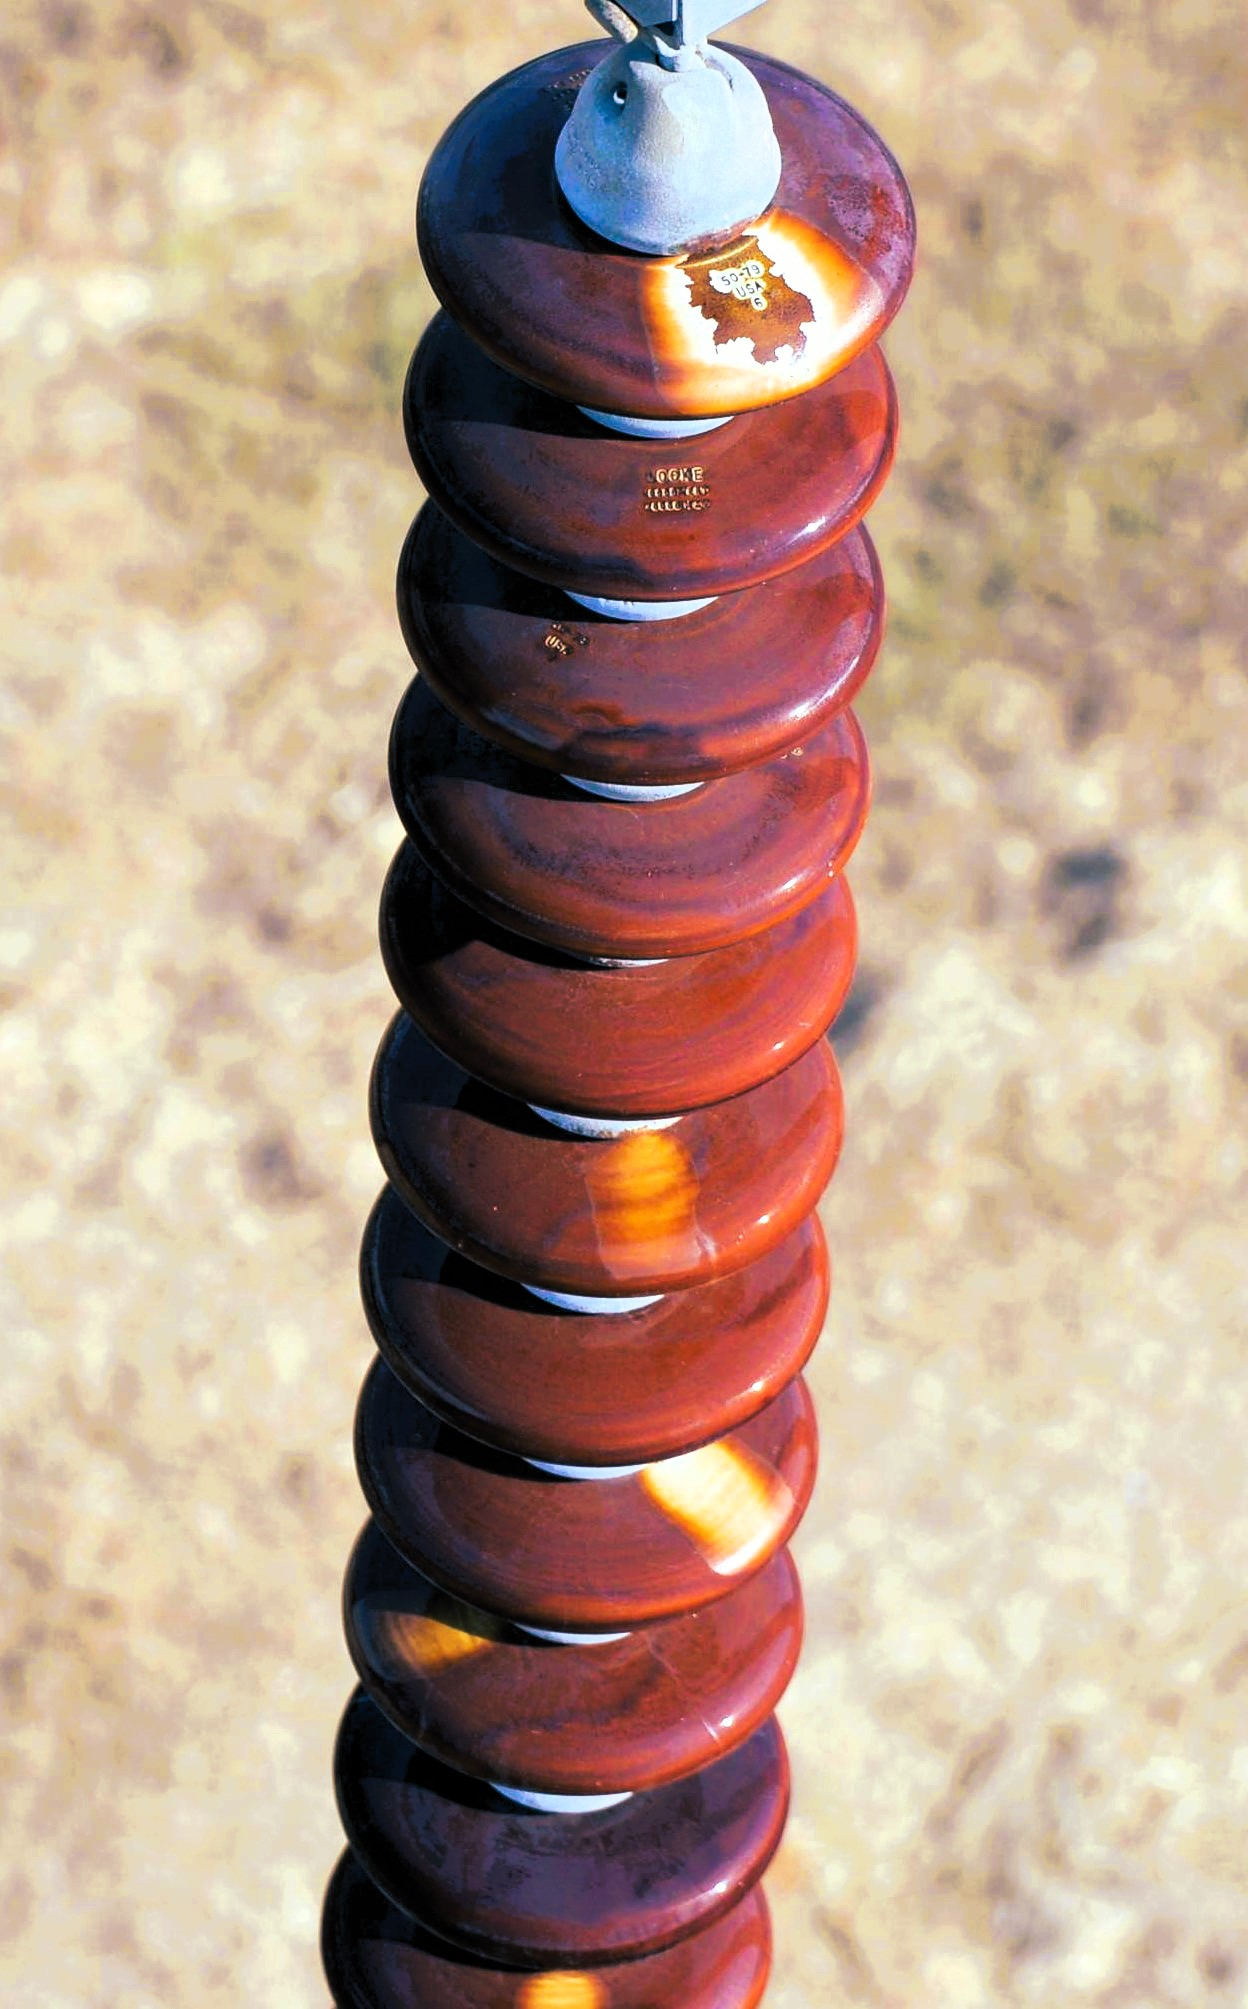Insulator flashover: (397, 39, 932, 422), (325, 1345, 840, 1647), (339, 1023, 870, 1309)
